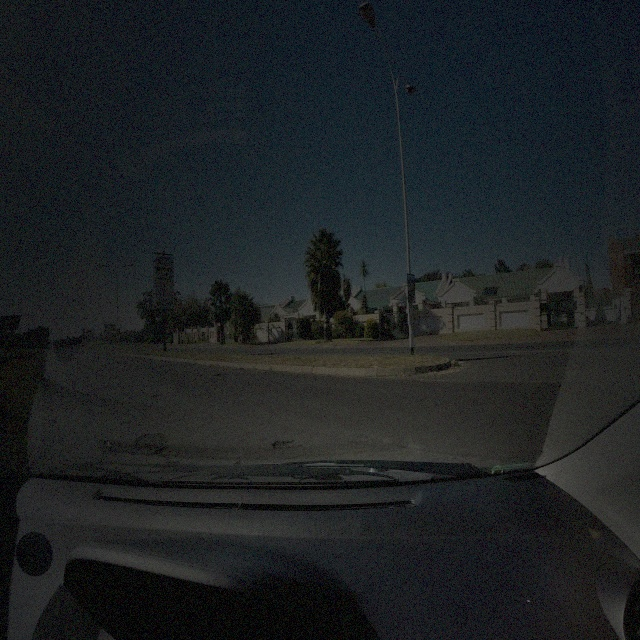pothole: (133, 436, 169, 452), (270, 438, 296, 452), (119, 418, 133, 428), (213, 372, 230, 378), (150, 393, 162, 399)
